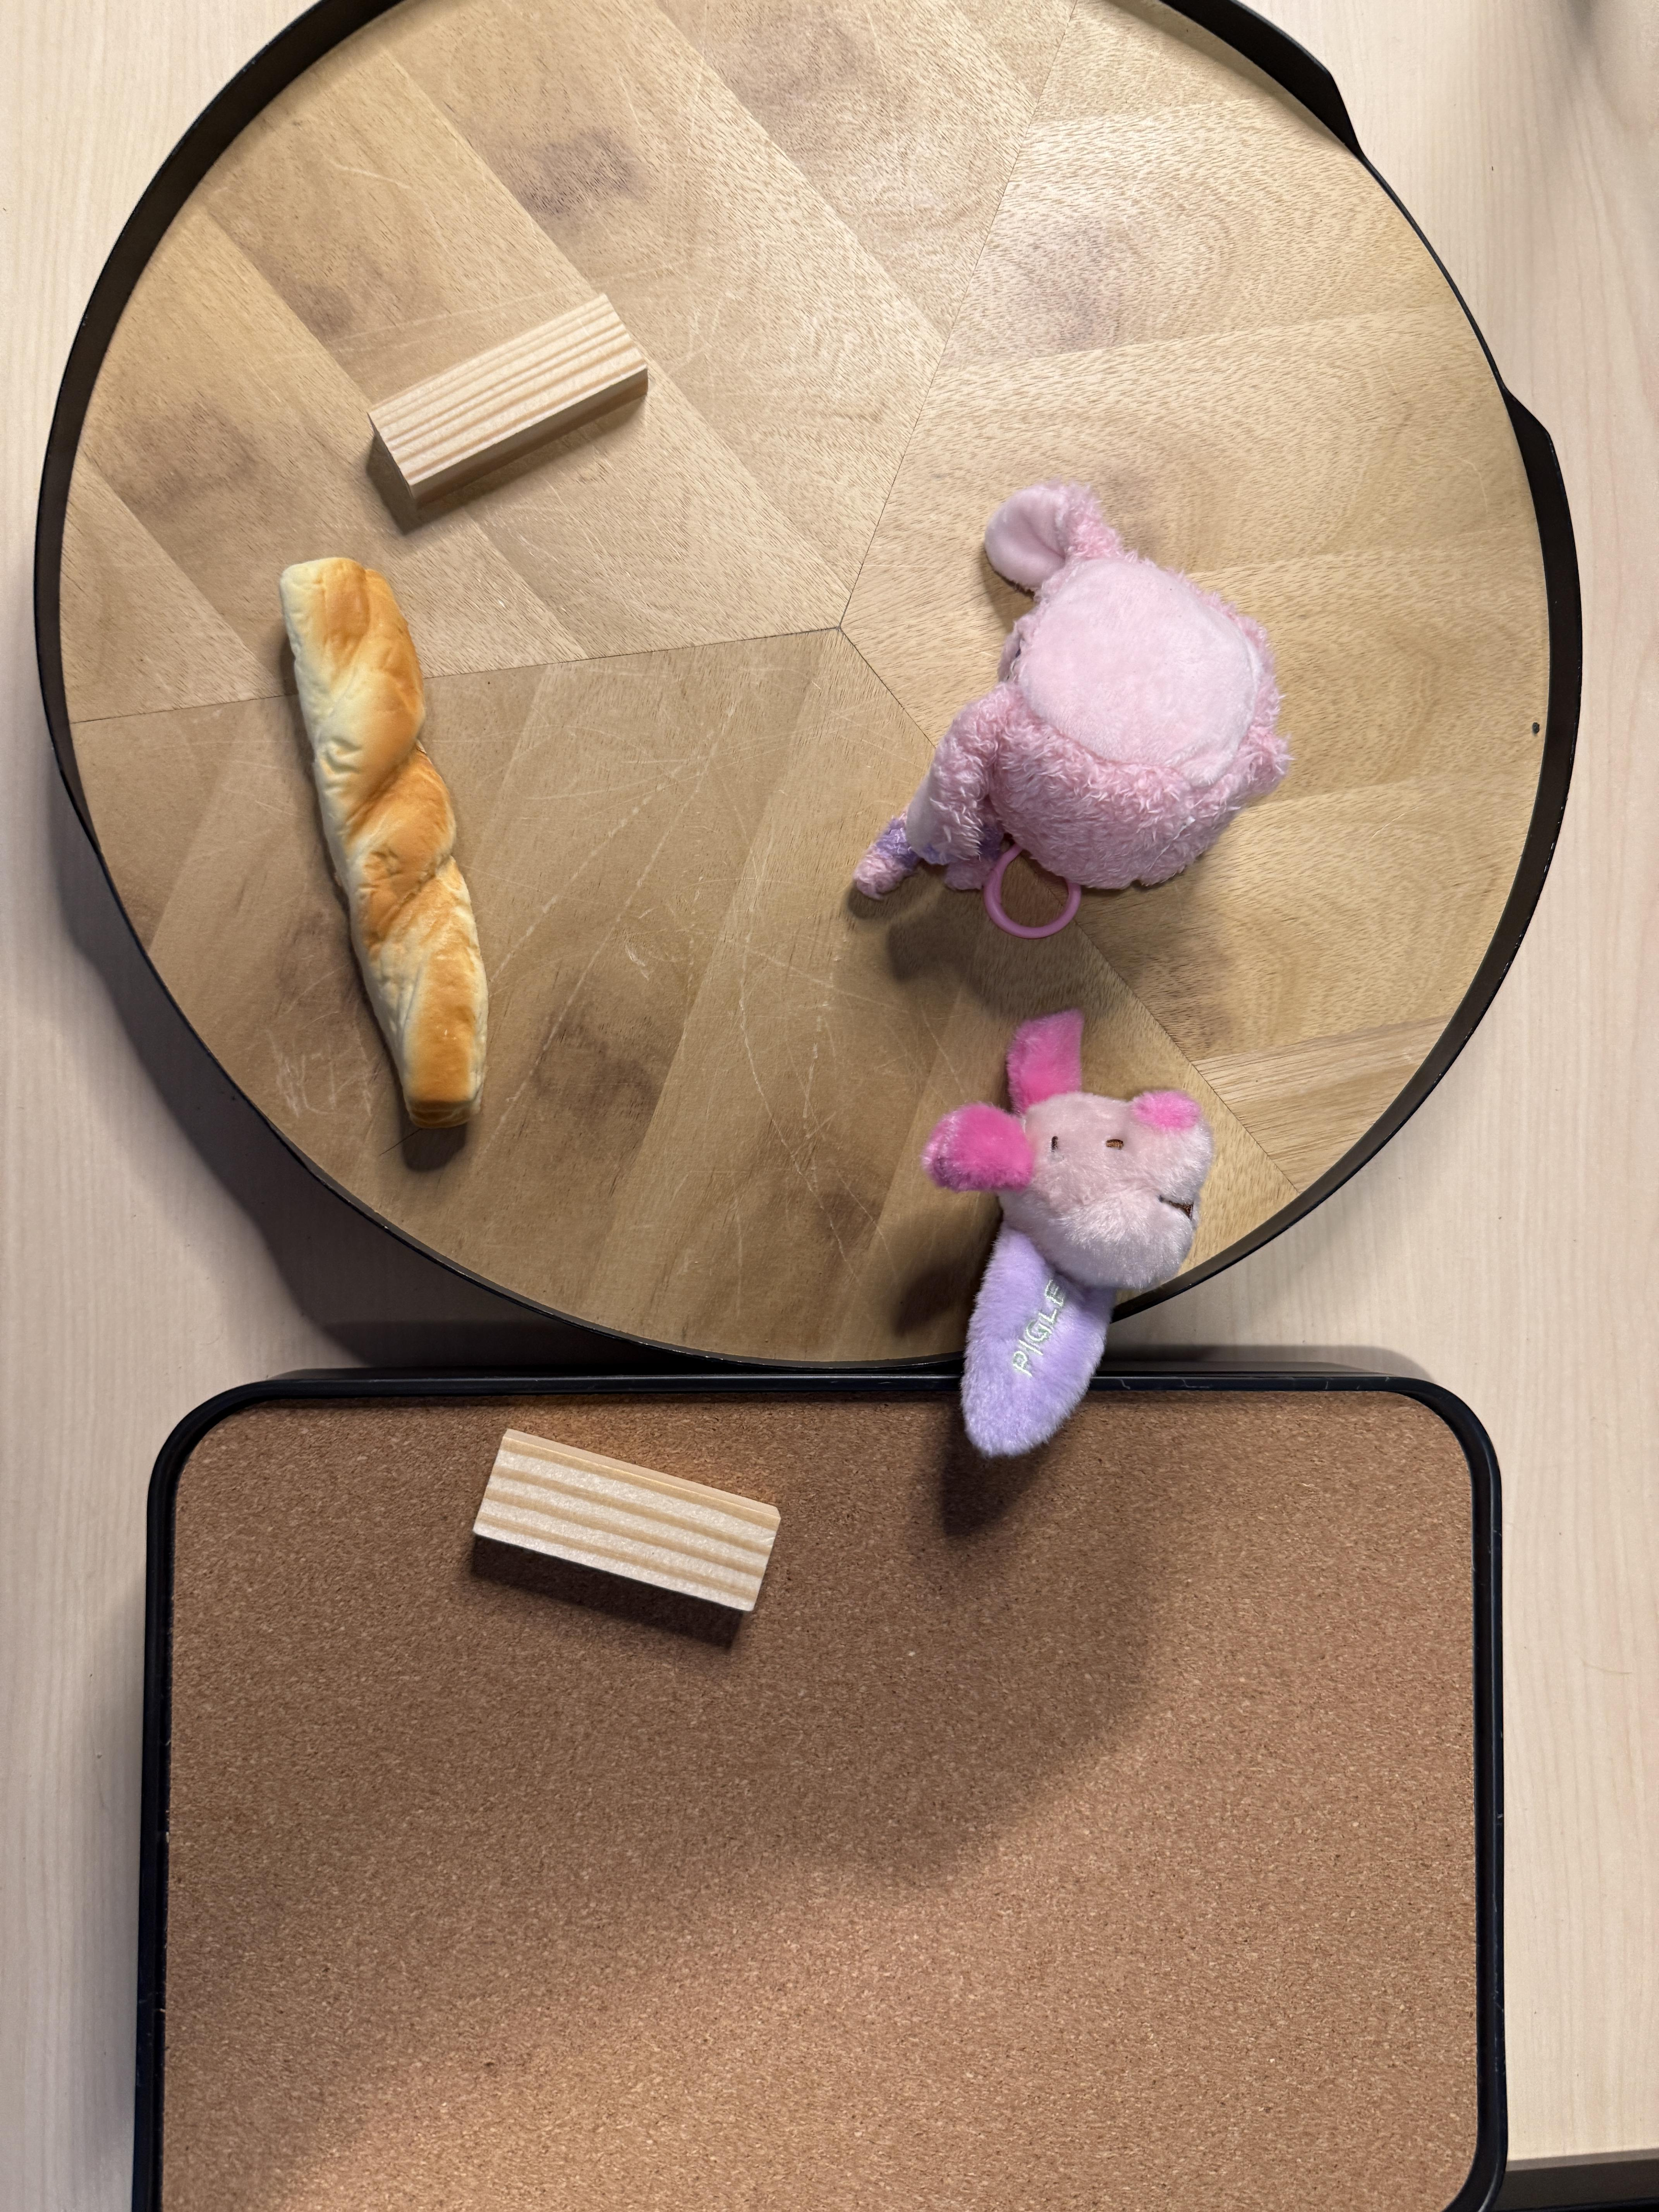block: (465, 1428, 784, 1639), (368, 291, 657, 514)
bread: (267, 561, 498, 1125)
doll: (849, 484, 1288, 954), (929, 1003, 1204, 1461)
